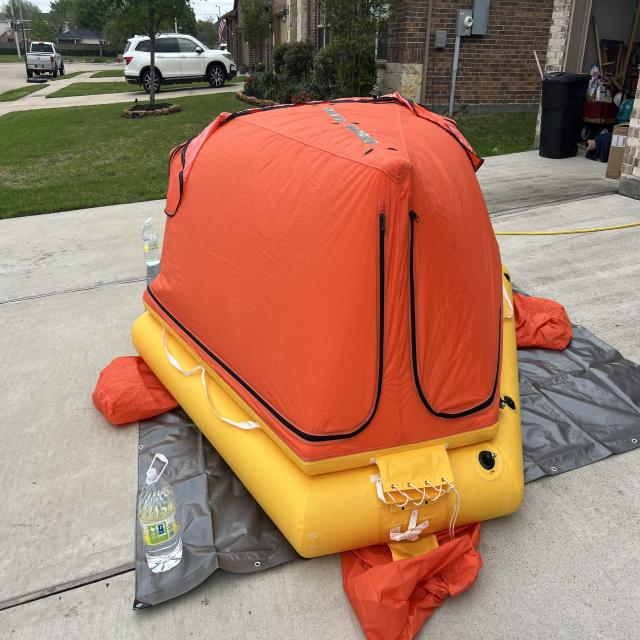Multi-person_life_raft: (91, 91, 572, 639)
